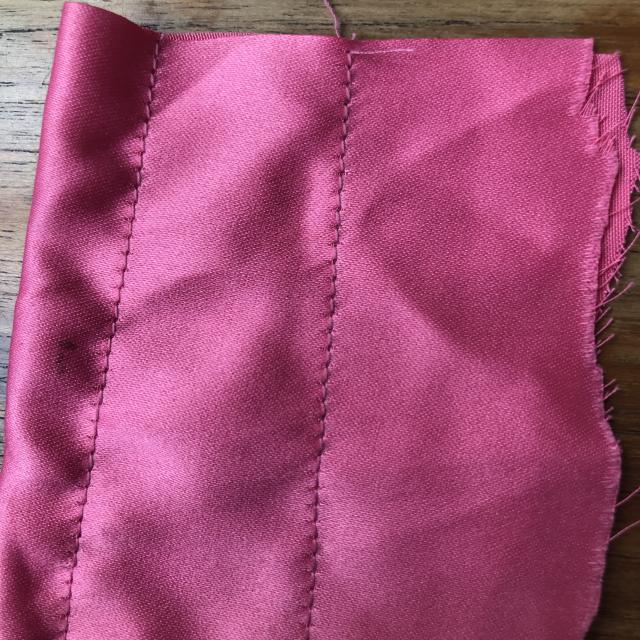good: (302, 281, 348, 441)
